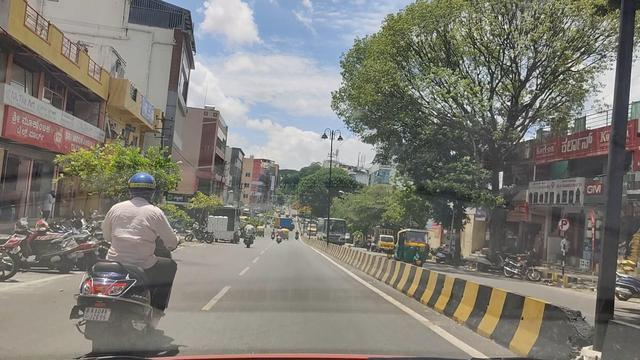LMV: (78, 165, 182, 351)
